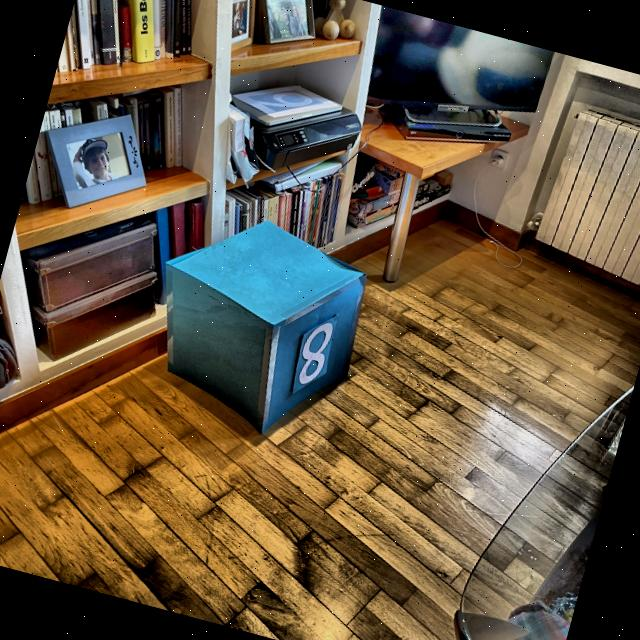blue box: (131, 198, 381, 452)
eight: (288, 314, 338, 391)
